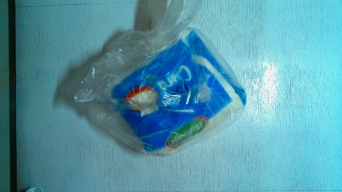m: (103, 27, 249, 155)
